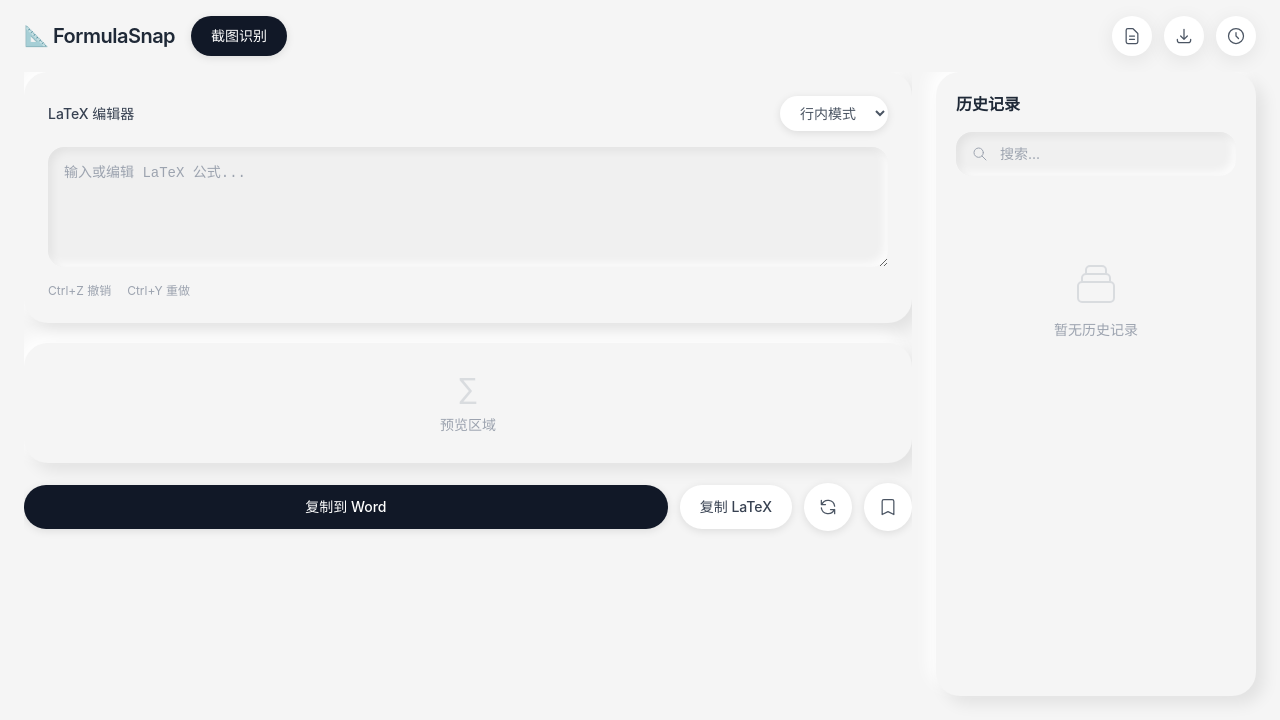
Test case: App Shell › shows export error when no history records to export
The image size is (1280, 720).
Click the button with test id "export-tex-btn" at (1132, 36), box x1=1112 y1=16 x2=1152 y2=56
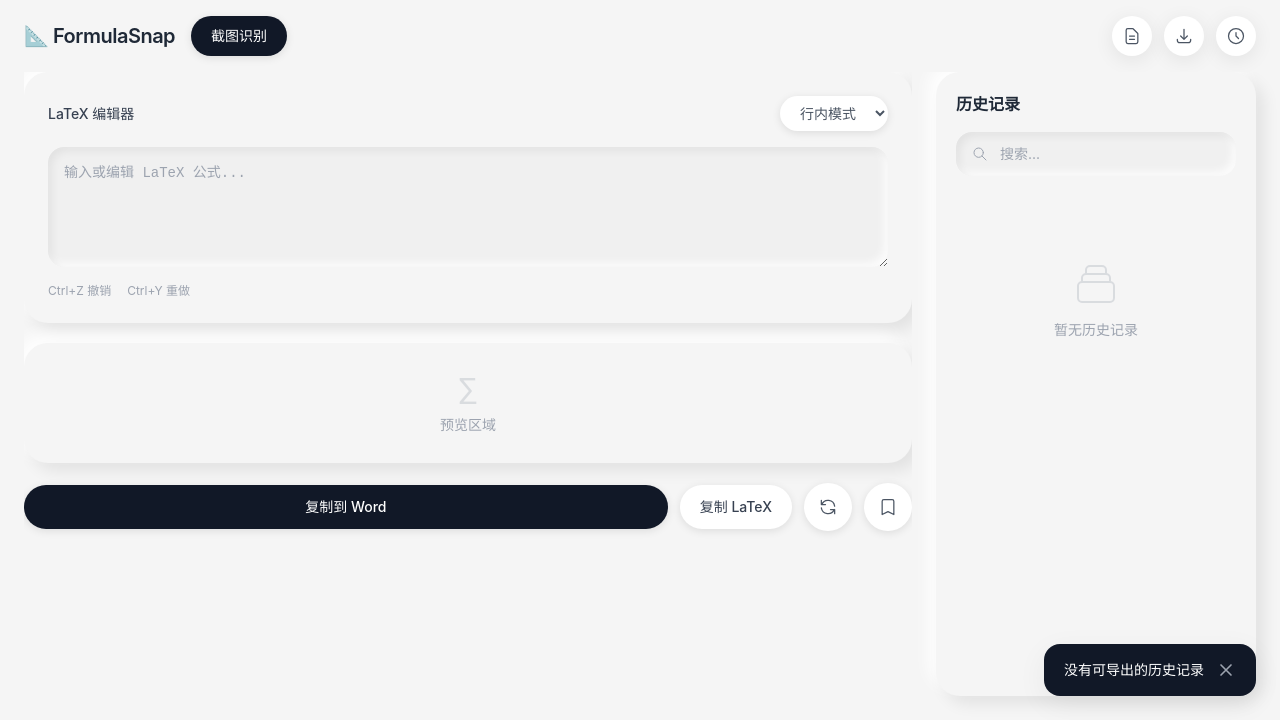
expect the text "没有可导出的历史记录" is shown: met, box x1=1064 y1=660 x2=1204 y2=680
